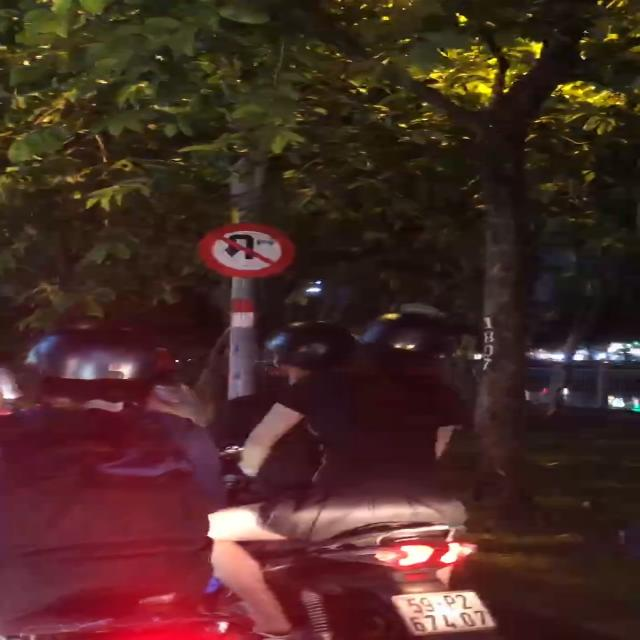Bien bao cam quay dau xe: (198, 223, 296, 278)
